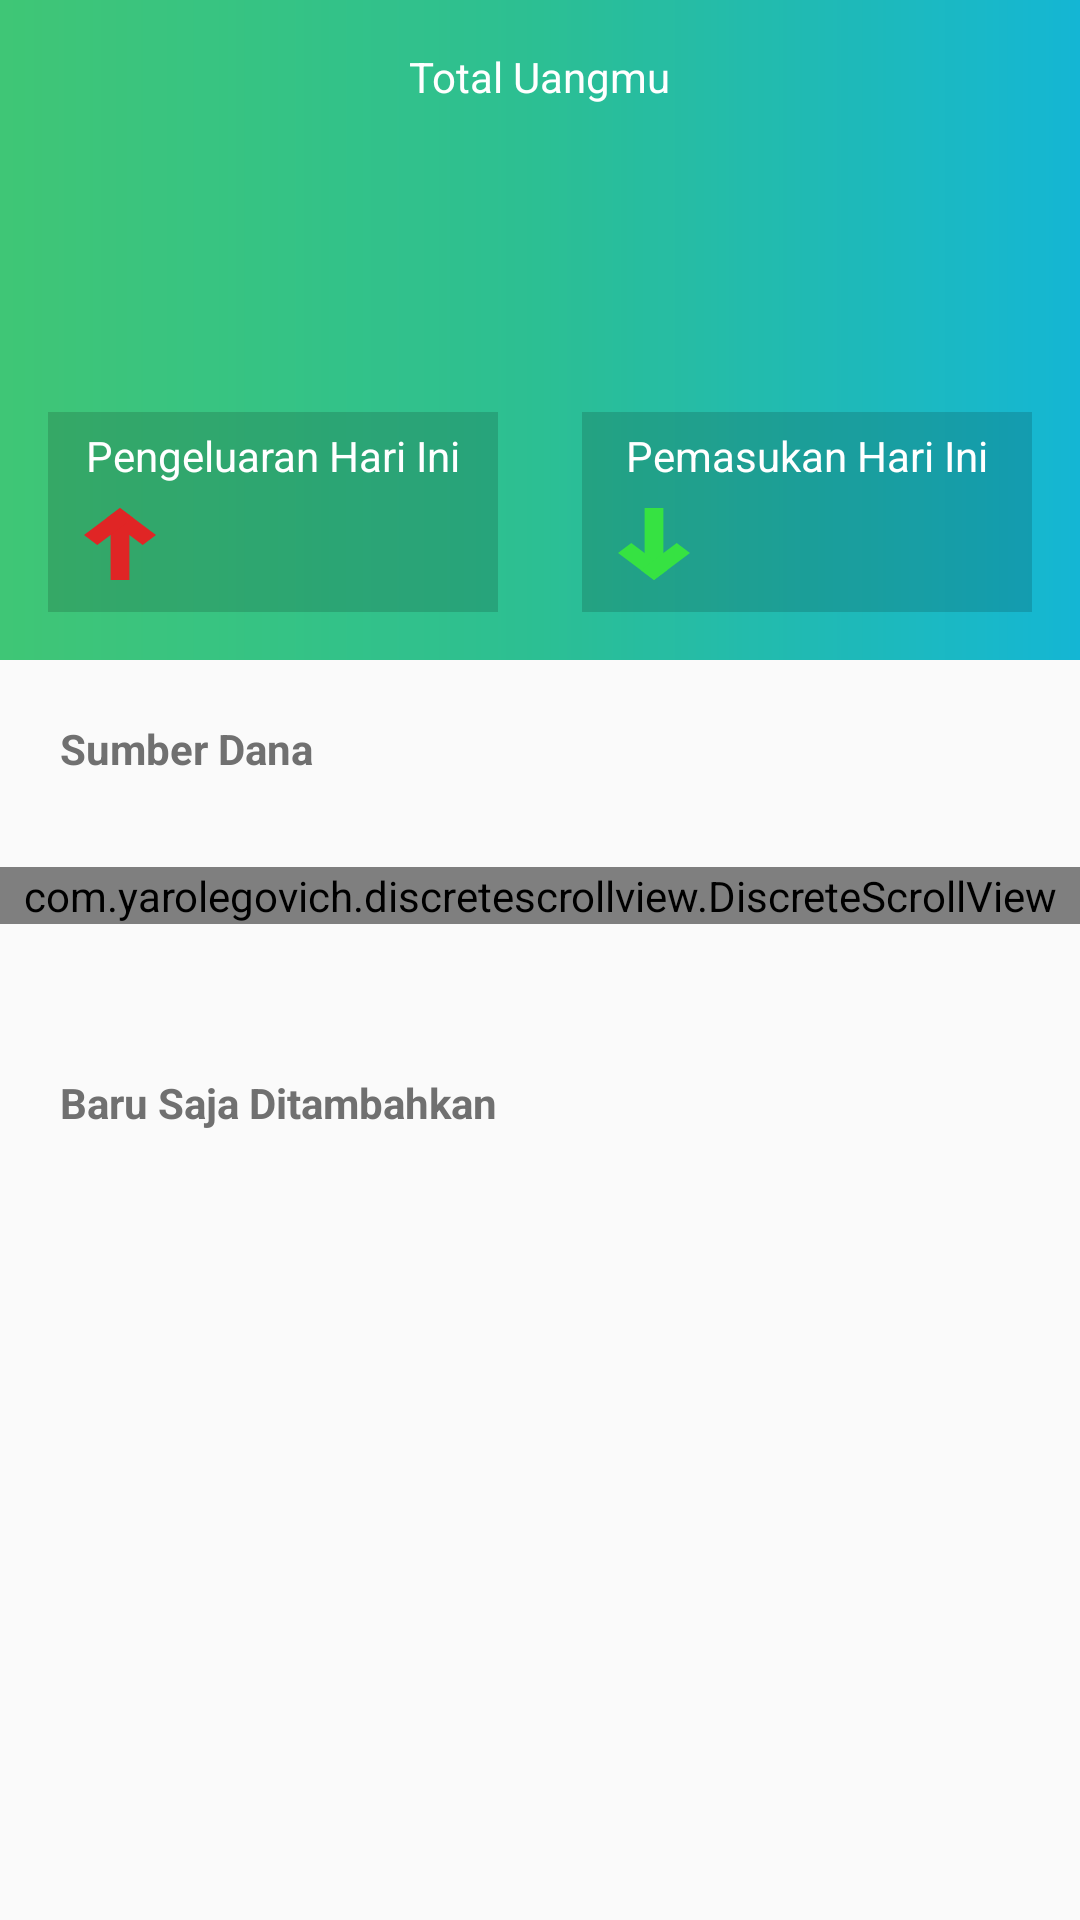

Named icons in this screenshot (1080*1920) and their bounding boxes, BBox(x1, y1, x2, y2):
arrow down: BBox(618, 508, 690, 580)
arrow up: BBox(84, 508, 156, 580)
